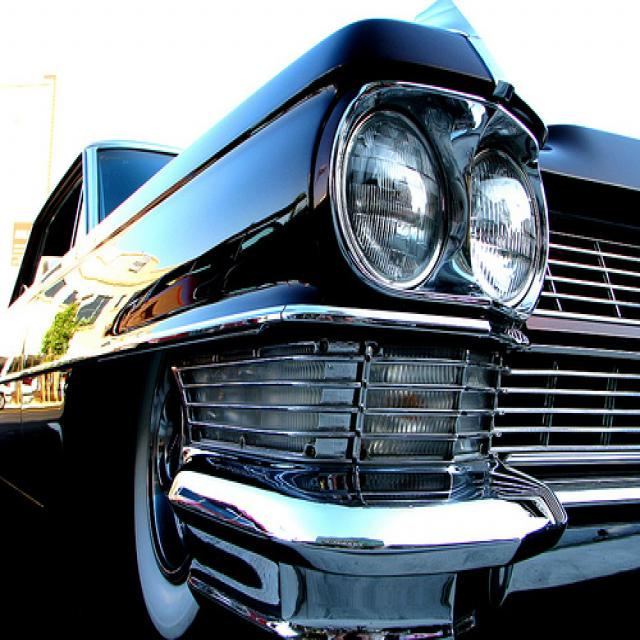Car: (0, 17, 639, 640)
